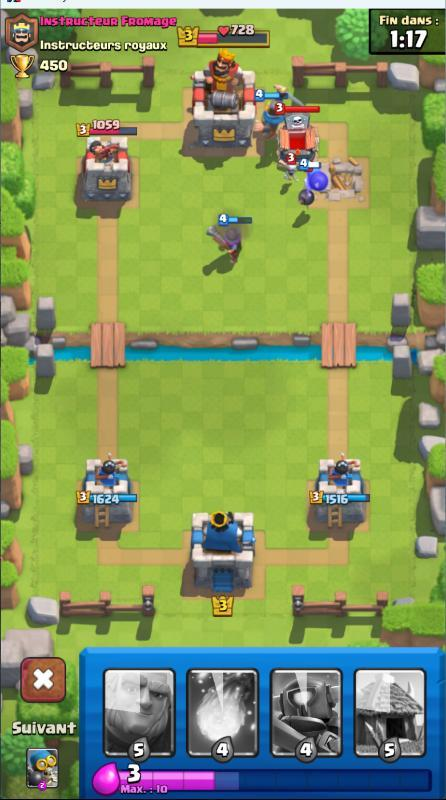enemy_skeletons: (283, 153, 299, 182)
enemy_tombstone: (271, 105, 323, 176)
player_bomber: (296, 158, 334, 211)
player_knight: (255, 89, 287, 135)
player_musketeer: (201, 208, 257, 264)
